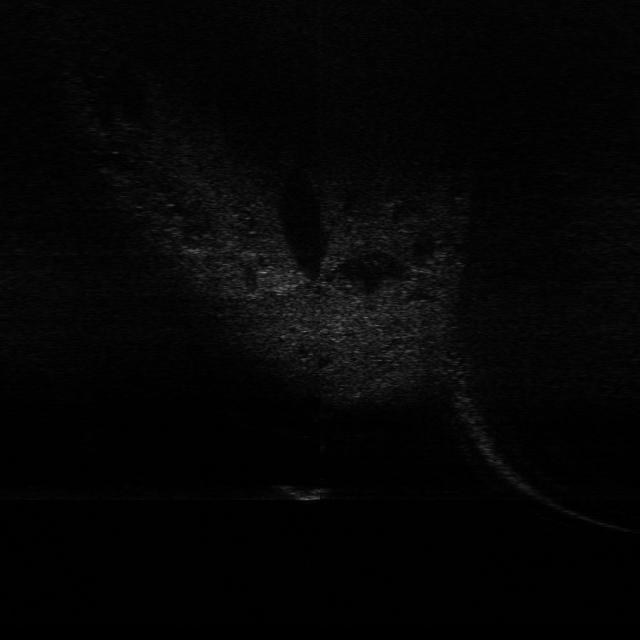cube: (272, 480, 333, 506)
